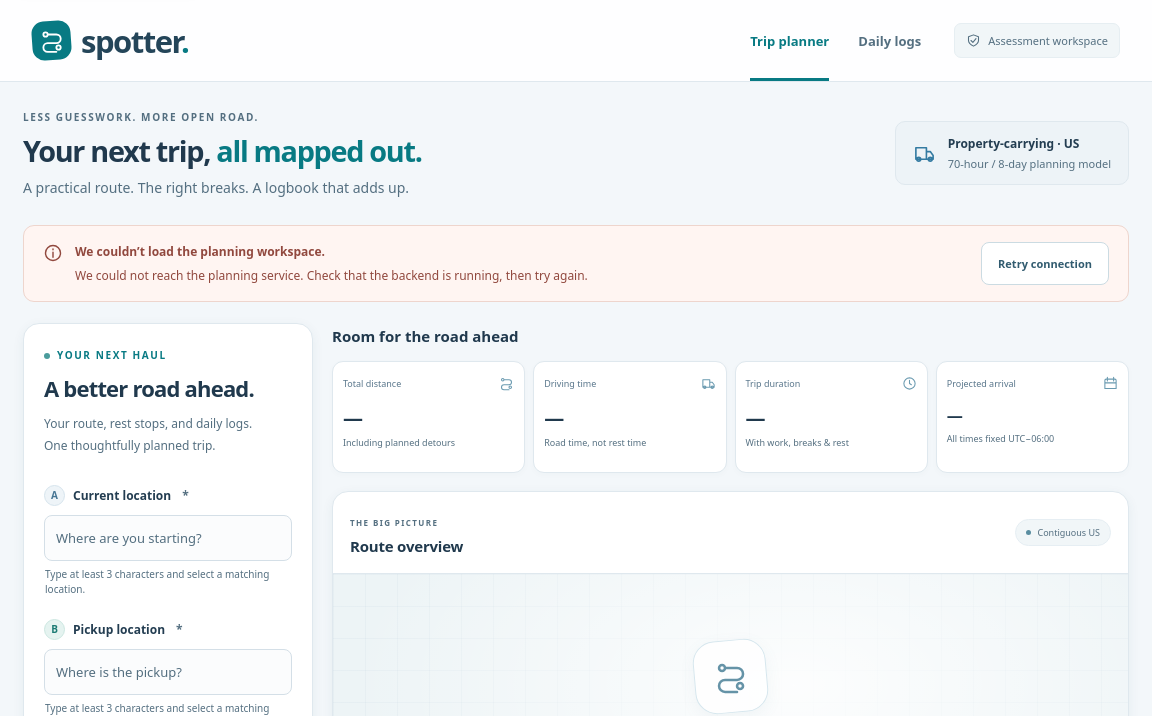
Test: four-input planning workspace › recovers from an unavailable backend through an explicit retry
The width and height of the screenshot is (1152, 716).
Expected: the message shows "We couldn’t load", [75, 243, 325, 260]
Click the button "Retry connection" at (1045, 264), box [981, 242, 1109, 285]
(page scrolled)
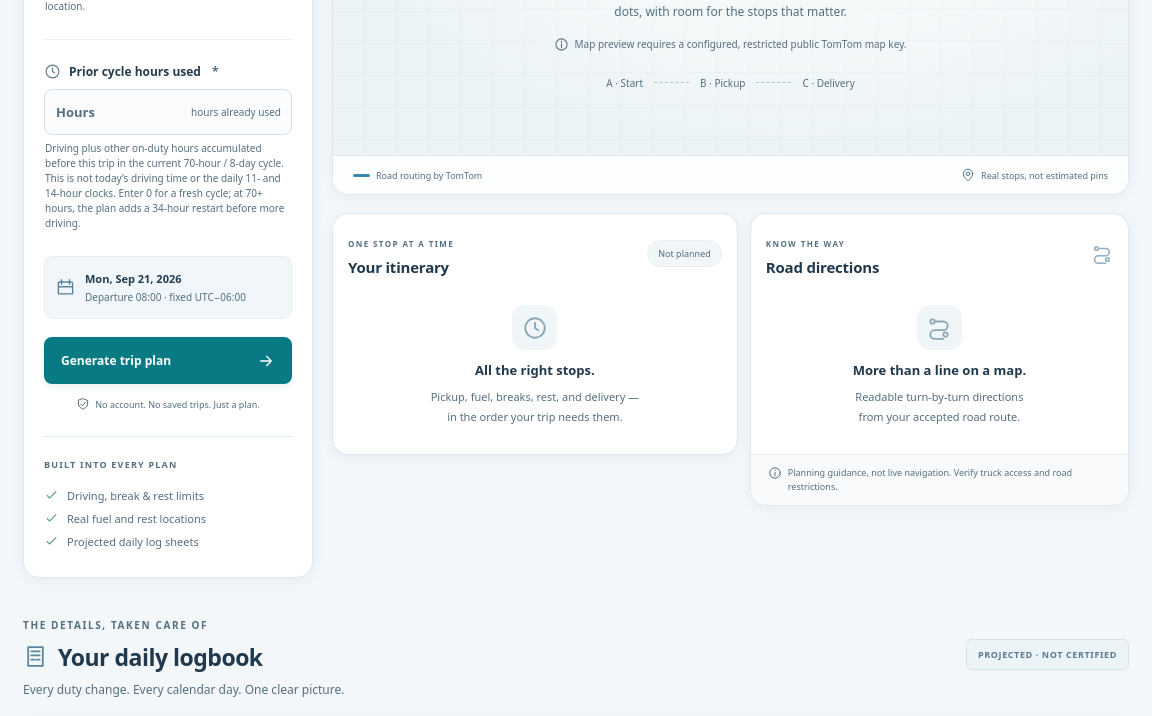
Expected: the text "Mon, Sep 21, 2026" is shown, [85, 271, 182, 286]
Expected: the message is gone
Expected: the button "Generate trip plan" is enabled, [44, 337, 292, 384]
